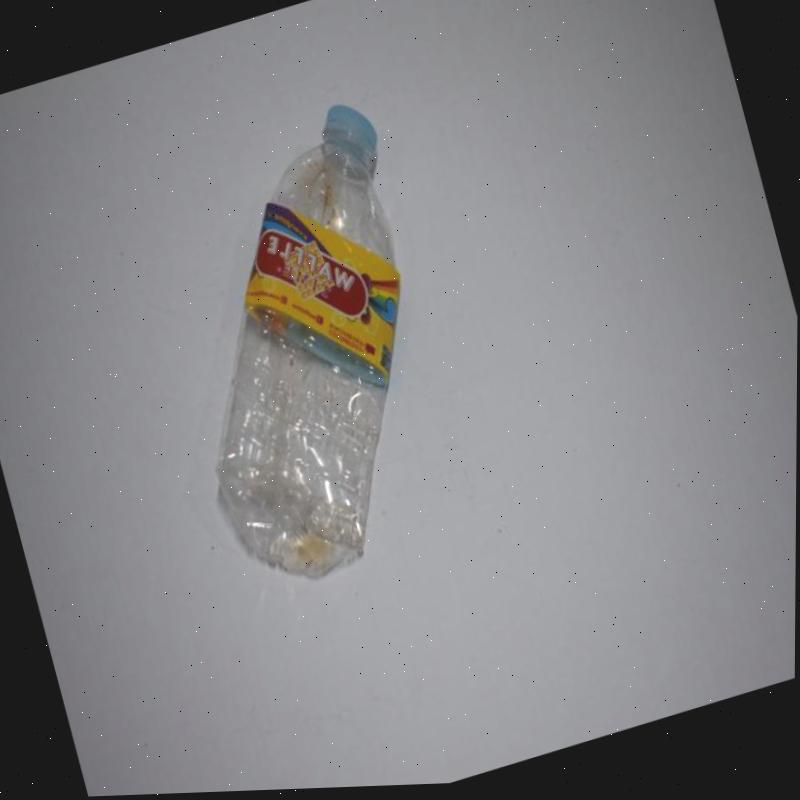botella: (128, 92, 481, 605)
